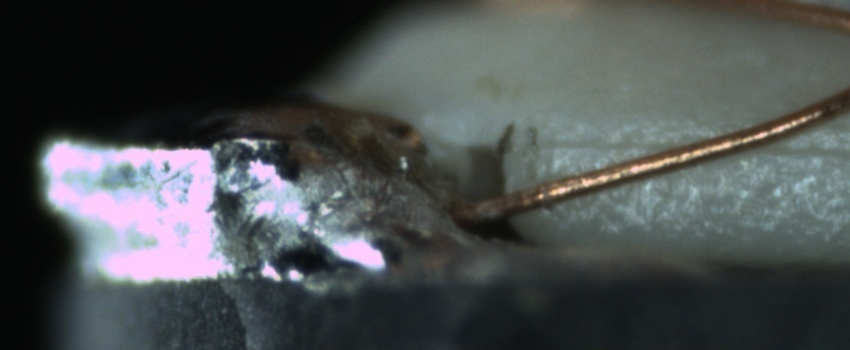DL: (526, 114, 848, 177)
